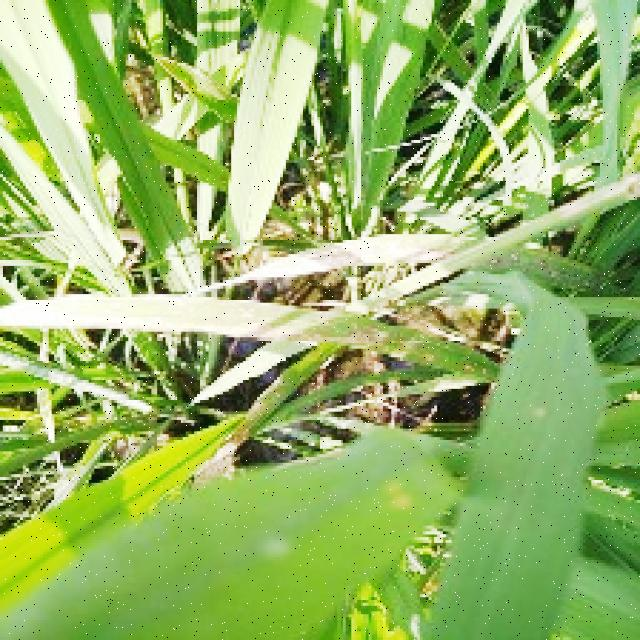health: (227, 0, 328, 251)
